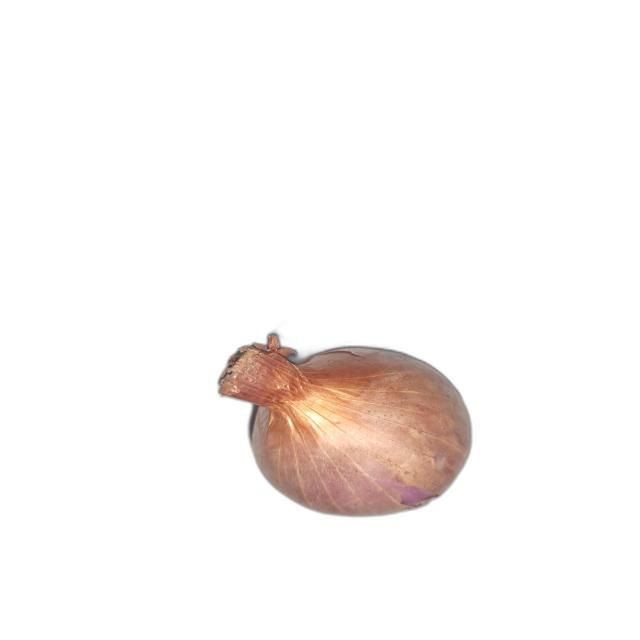onion: (218, 332, 474, 517)
